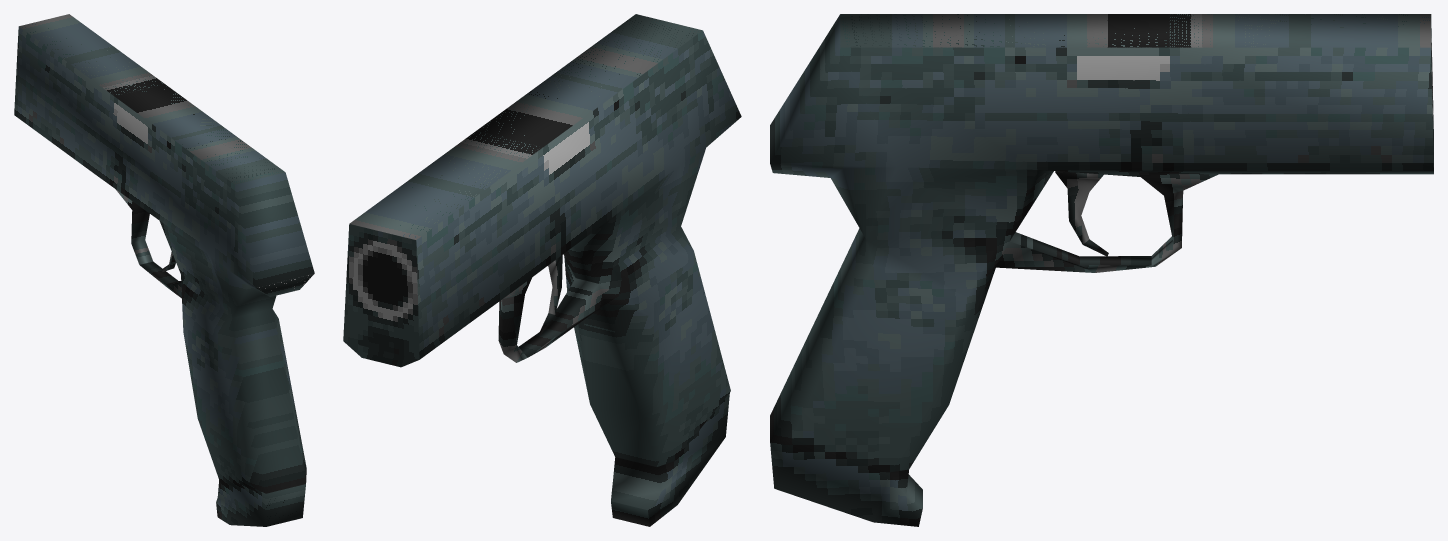
The model's file is pistol.glb.
3 renders of one model, left to right at view 1: azimuth 30°, elevation 25°; view 2: azimuth 150°, elevation 25°; view 3: azimuth 270°, elevation 25°, orthographic. The views are drawn at different scales.
Visible parts, largest first — view 1: gun5; view 2: gun5; view 3: gun5.
Boxes of the visible parts, left/top/right/bottom form: gun5: left=14, top=14, right=314, bottom=526; gun5: left=343, top=14, right=741, bottom=526; gun5: left=770, top=14, right=1433, bottom=526.
Size of the model in its own units: 0.14 by 0.78 by 0.964.
1 material, 1 textured.
